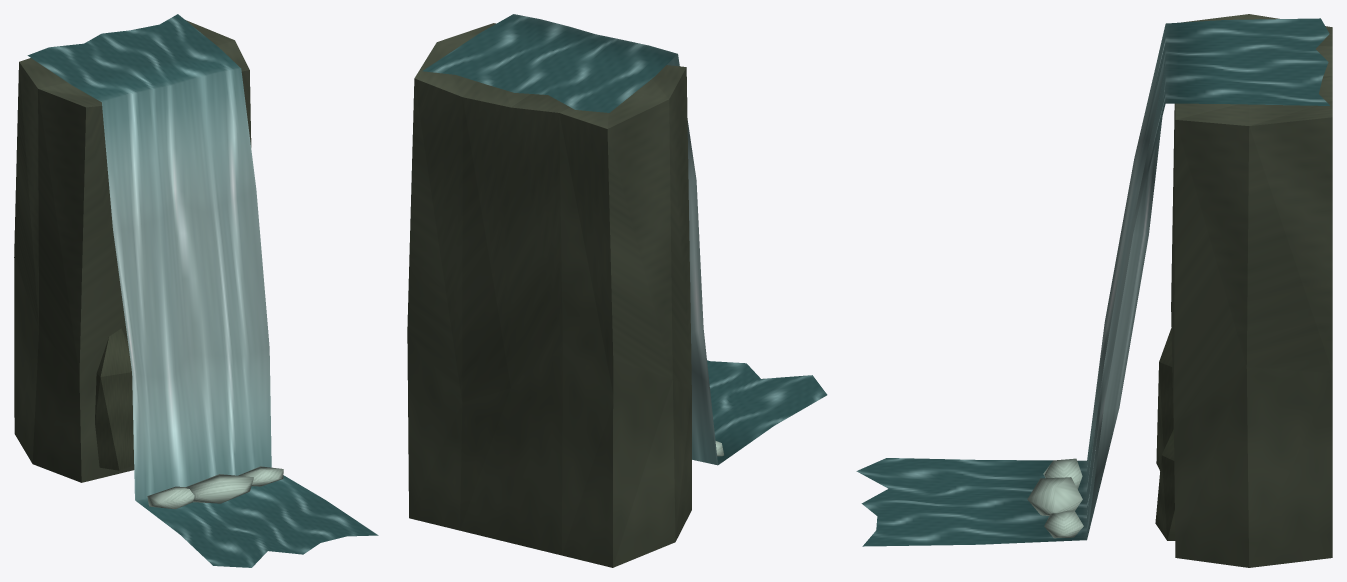
File: fall-wide-lod1.glb
3 views of the same model, side by side, from view 1: azimuth 30°, elevation 25°; view 2: azimuth 150°, elevation 25°; view 3: azimuth 270°, elevation 25° (orthographic). The views are drawn at different scales.
Size of the model in its own units: 0.5722 by 1 by 0.9697.
Materials: 1 (1 with a texture image).
